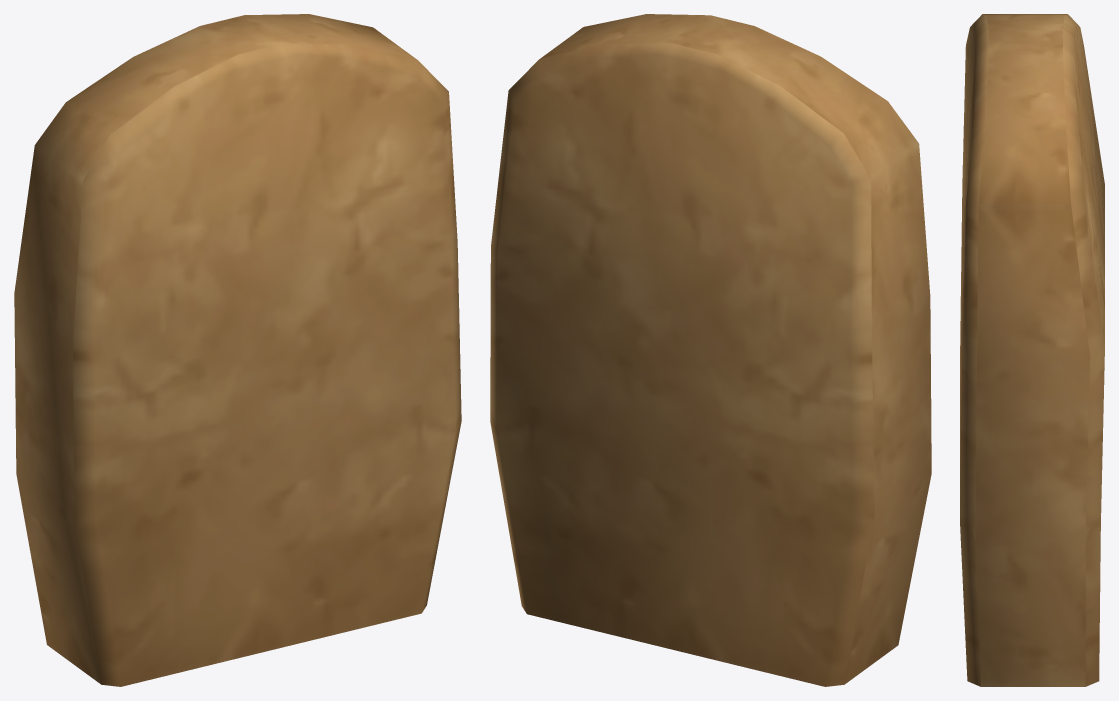
Rendered from Tomb_Stone_02.FBX.
3 renders of one model, left to right at view 1: azimuth 30°, elevation 25°; view 2: azimuth 150°, elevation 25°; view 3: azimuth 270°, elevation 25°, orthographic. The views are drawn at different scales.
Parts seen in each view (by area): view 1: Tomb_Stone_02; view 2: Tomb_Stone_02; view 3: Tomb_Stone_02.
Part boxes in pixels (x1,y1,x2,y2): Tomb_Stone_02: (14, 14, 461, 686); Tomb_Stone_02: (490, 14, 931, 686); Tomb_Stone_02: (960, 14, 1104, 686).
Bounding box in the file's own units: 0.9366 × 1.37 × 0.3158.
